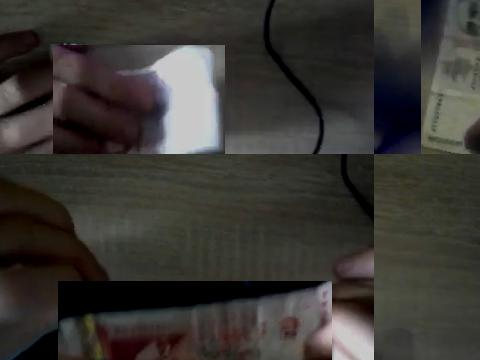5leva: (58, 281, 332, 360), (117, 45, 225, 154)
